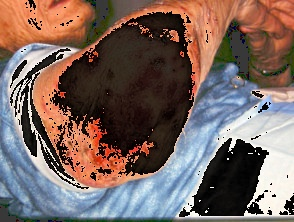SJS-TEN: (0, 0, 294, 218)
